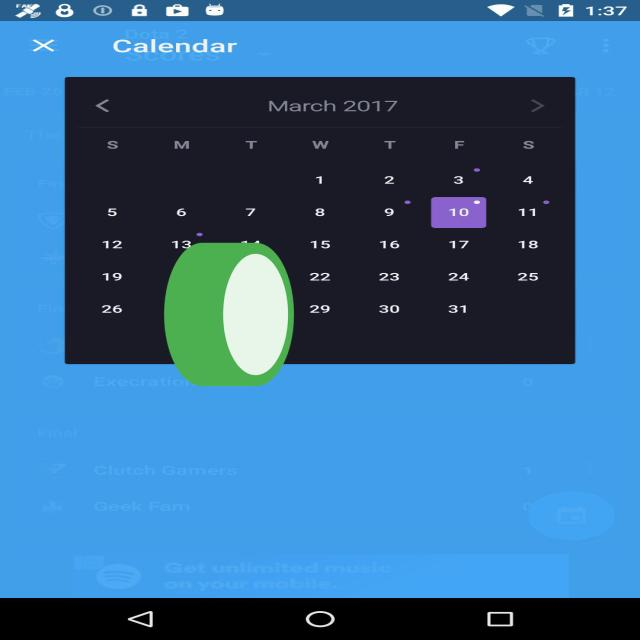social proof: (158, 188, 300, 452)
